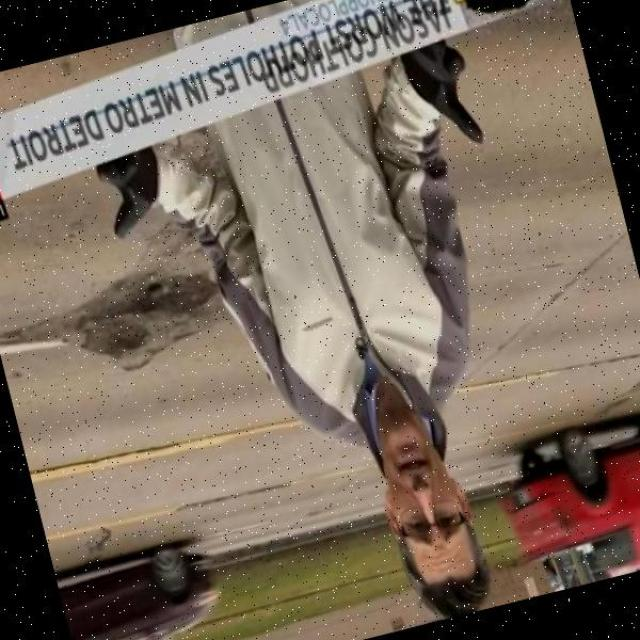pothole: (62, 260, 234, 364)
